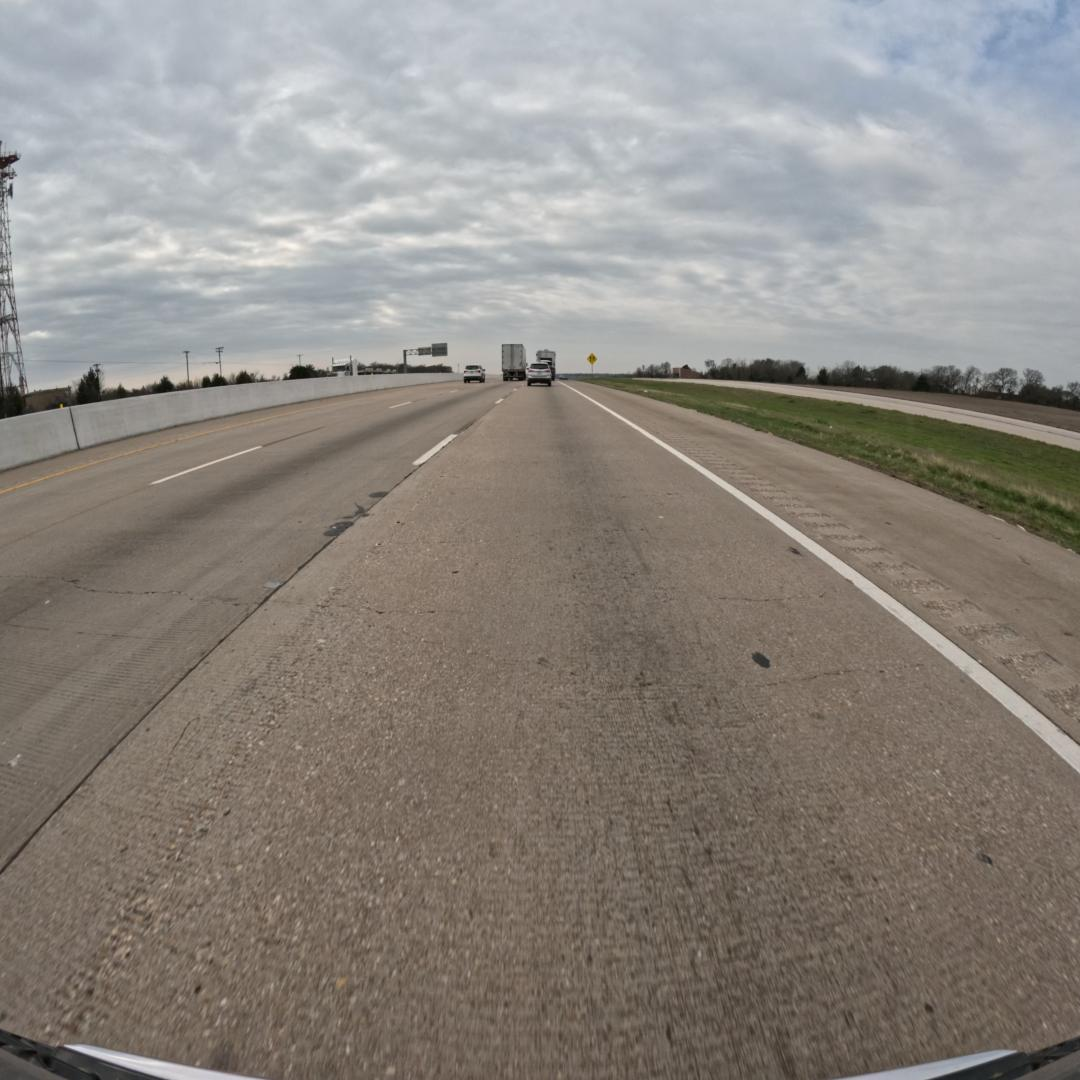lane0: (2, 384, 1080, 1080)
lane1: (0, 379, 526, 871)
